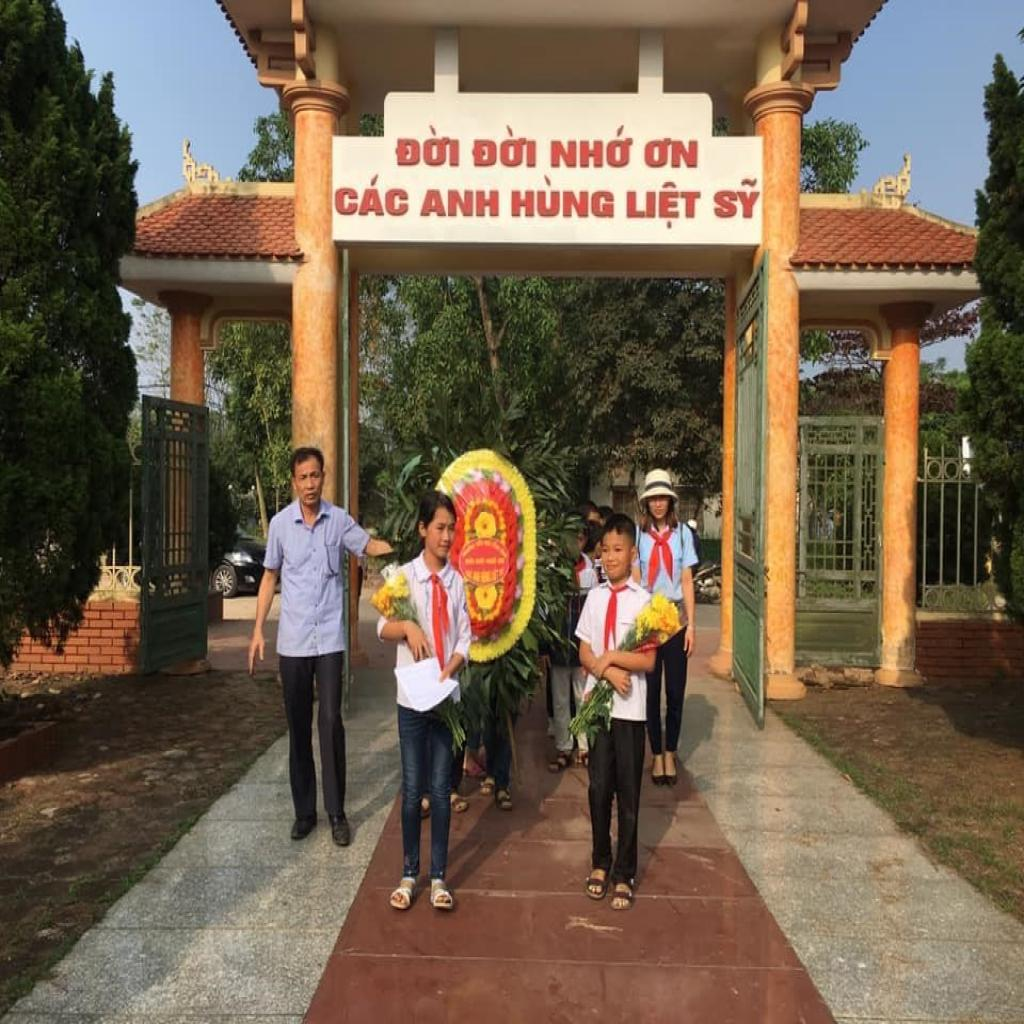text: (511, 174, 615, 220), (625, 179, 703, 232), (549, 124, 635, 169), (334, 171, 411, 219), (392, 122, 461, 168), (470, 124, 538, 169), (420, 188, 502, 219), (712, 176, 762, 220), (644, 136, 700, 170)
